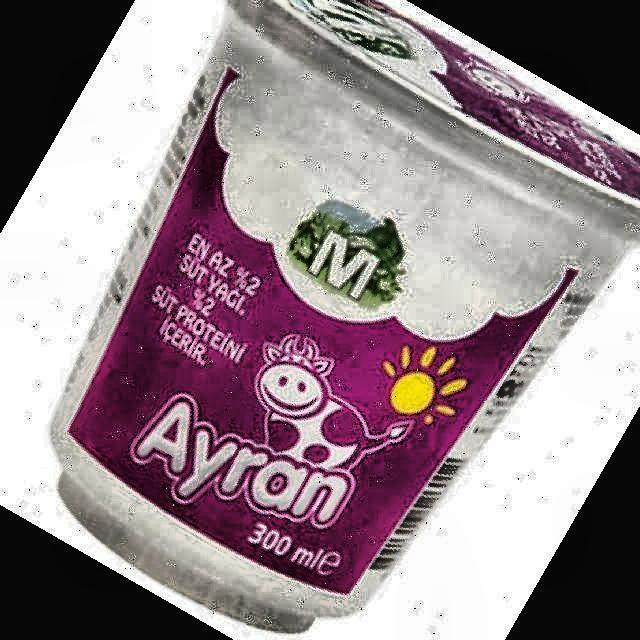plastic: (54, 0, 640, 629)
